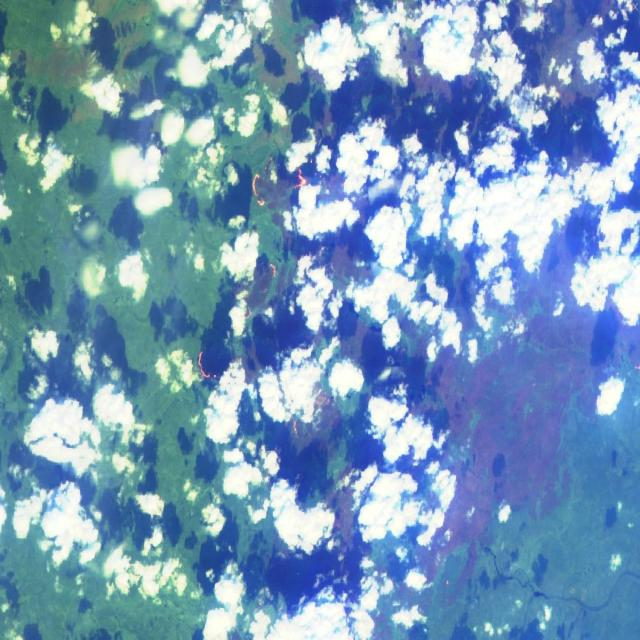fire: (235, 145, 314, 226), (237, 243, 287, 332), (196, 339, 219, 389), (290, 392, 304, 437)
